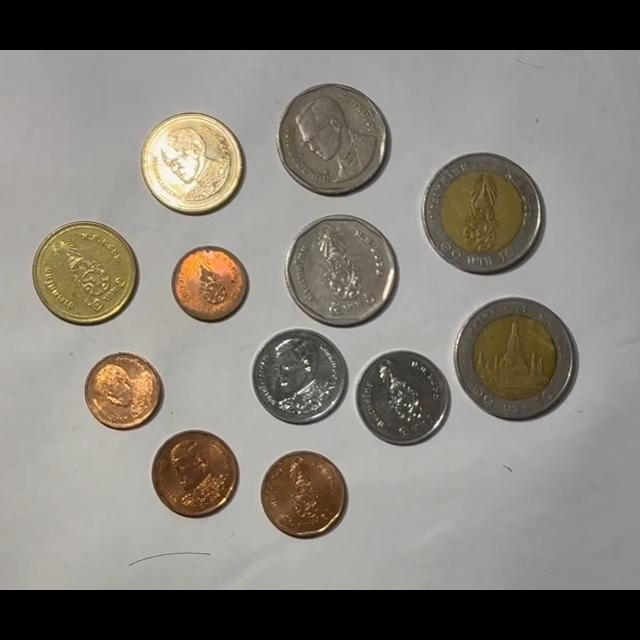1-baht: (355, 349, 452, 445), (251, 328, 347, 424)
10-baht: (455, 298, 578, 421), (421, 153, 544, 274)
2-baht: (33, 221, 138, 326), (140, 112, 245, 216)
25-satang: (85, 352, 163, 430), (171, 245, 248, 321)
5-baht: (277, 83, 391, 196), (286, 214, 399, 327)
50-satang: (260, 451, 347, 538), (151, 431, 239, 517)
